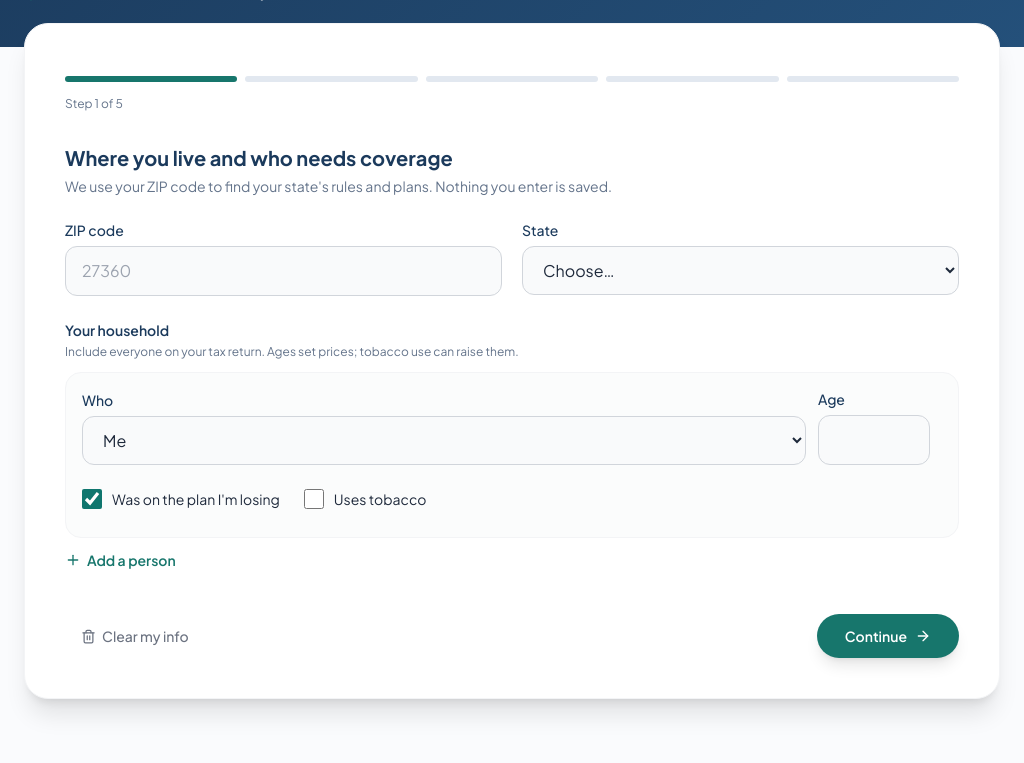
TransitionFlow › blocks Continue until the step is valid
The image size is (1024, 763).
(page scrolled)
Click the button "Continue": (888, 636) [817,614,959,658]
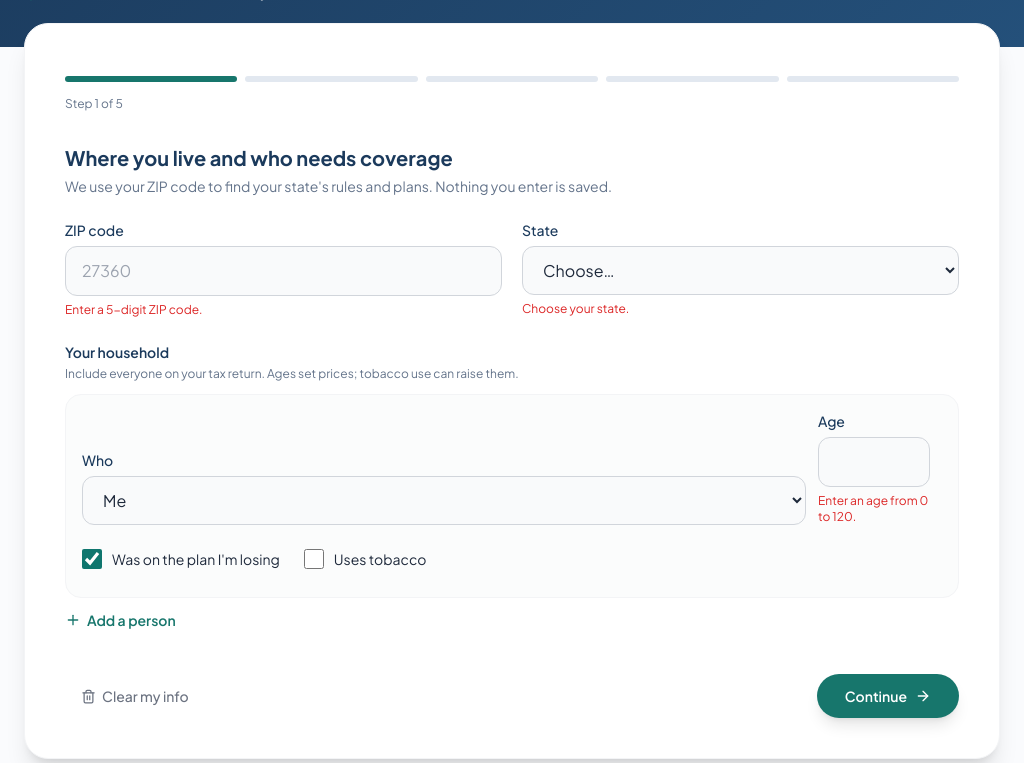
Expected: the text "Step 1 of 5" is shown, [65,96,123,111]
Expected: the text "Enter a 5-digit ZIP code." is shown, [65,302,202,317]
